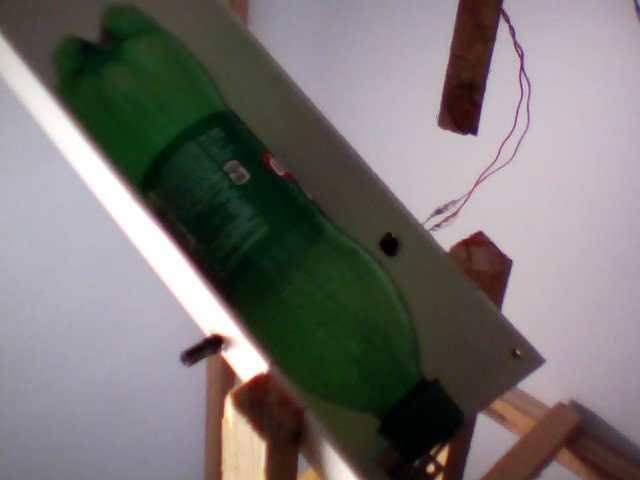plastico: (40, 1, 471, 464)
